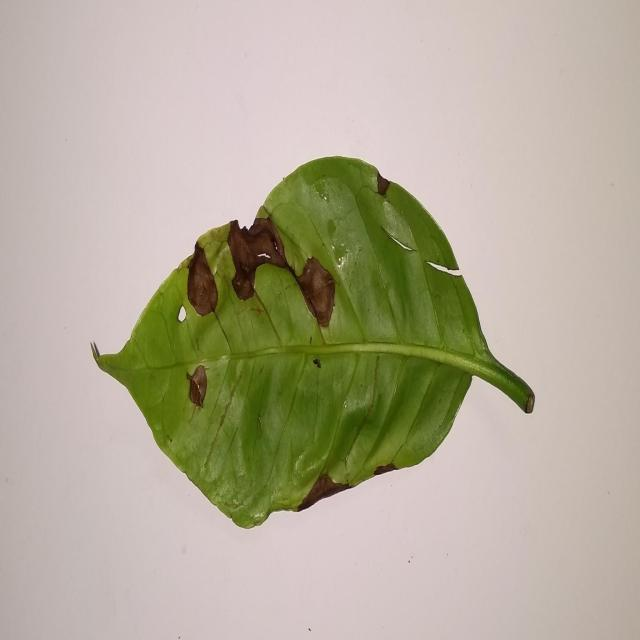Enfermedad-Antracnosis: (88, 158, 535, 532)
